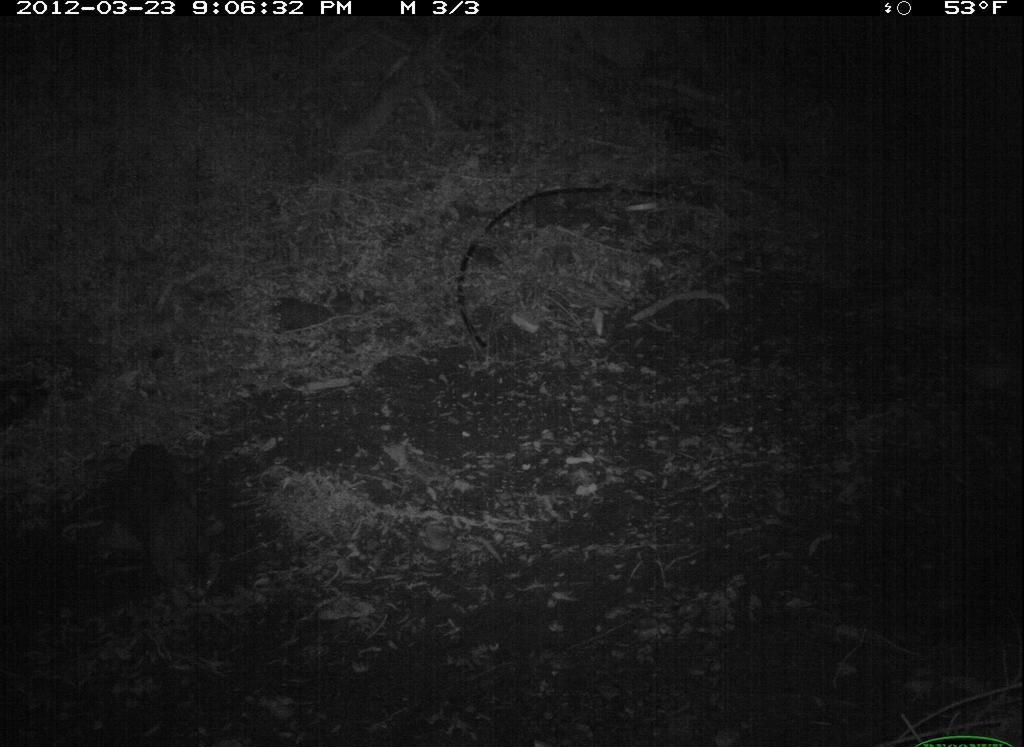cat: (63, 432, 239, 624)
